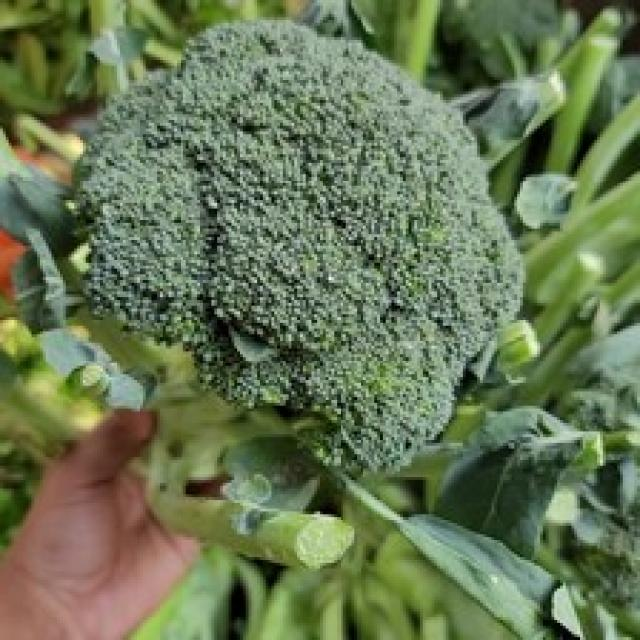Broccoli: (82, 21, 520, 468), (80, 22, 518, 468)
